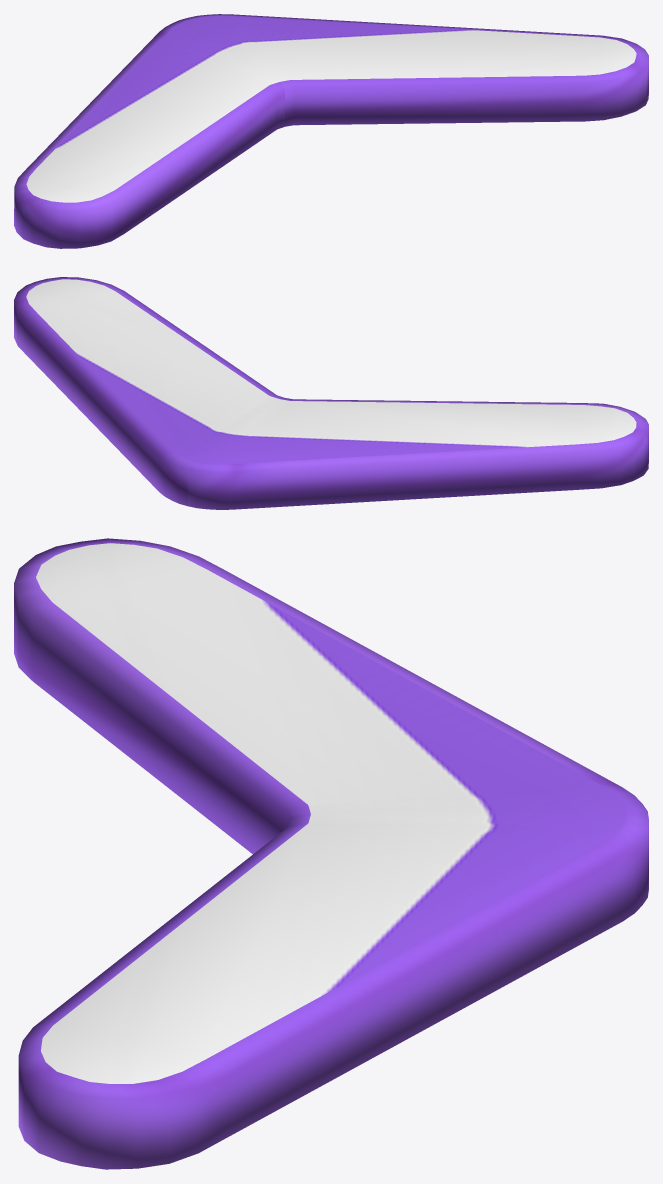
The model's file is Arrow.FBX.
3 views of the same model, one above another, from view 1: azimuth 30°, elevation 25°; view 2: azimuth 150°, elevation 25°; view 3: azimuth 270°, elevation 25° (orthographic). The views are drawn at different scales.
Visible parts, largest first — view 1: Arrow; view 2: Arrow; view 3: Arrow.
Boxes of the visible parts, left/top/right/bottom form: Arrow: left=14, top=14, right=648, bottom=248; Arrow: left=14, top=277, right=648, bottom=509; Arrow: left=14, top=538, right=648, bottom=1169.
Size of the model in its own units: 8.96 by 0.5787 by 4.3.
